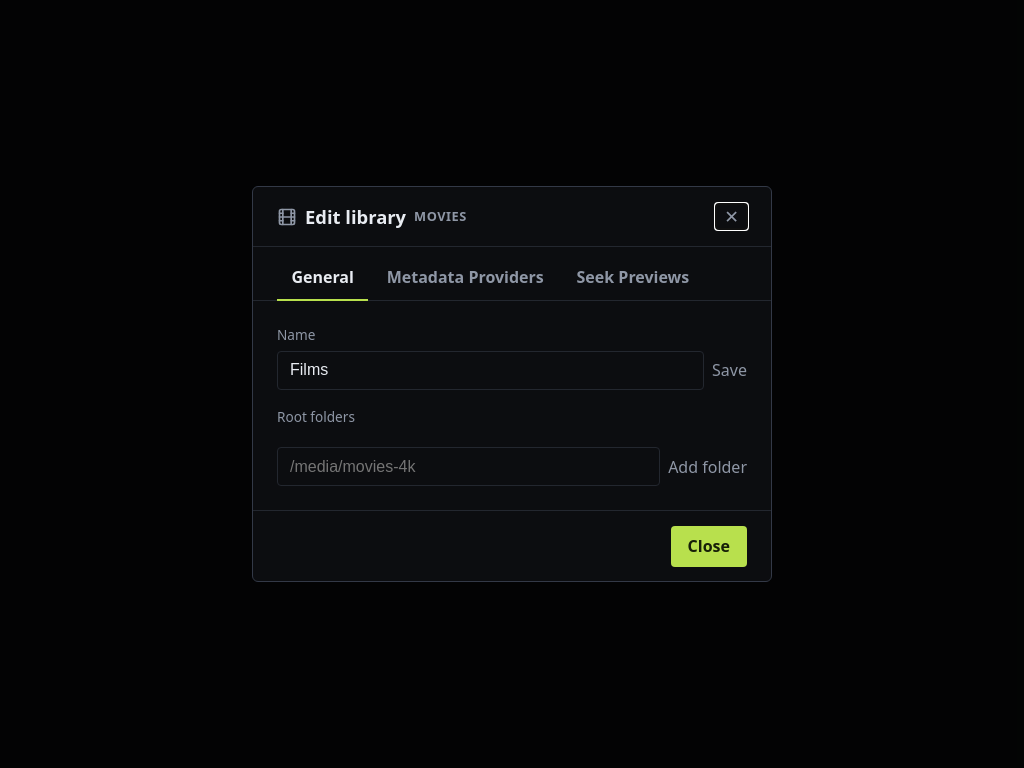
Test: EditLibraryDialog — seek previews tab › is lazy: the panel mounts only after the tab is clicked, labelled Enable Seek Previews
Click the tab with test id "edit-library-tab-seek-previews". click: (633, 278)
box: [562,256,704,301]
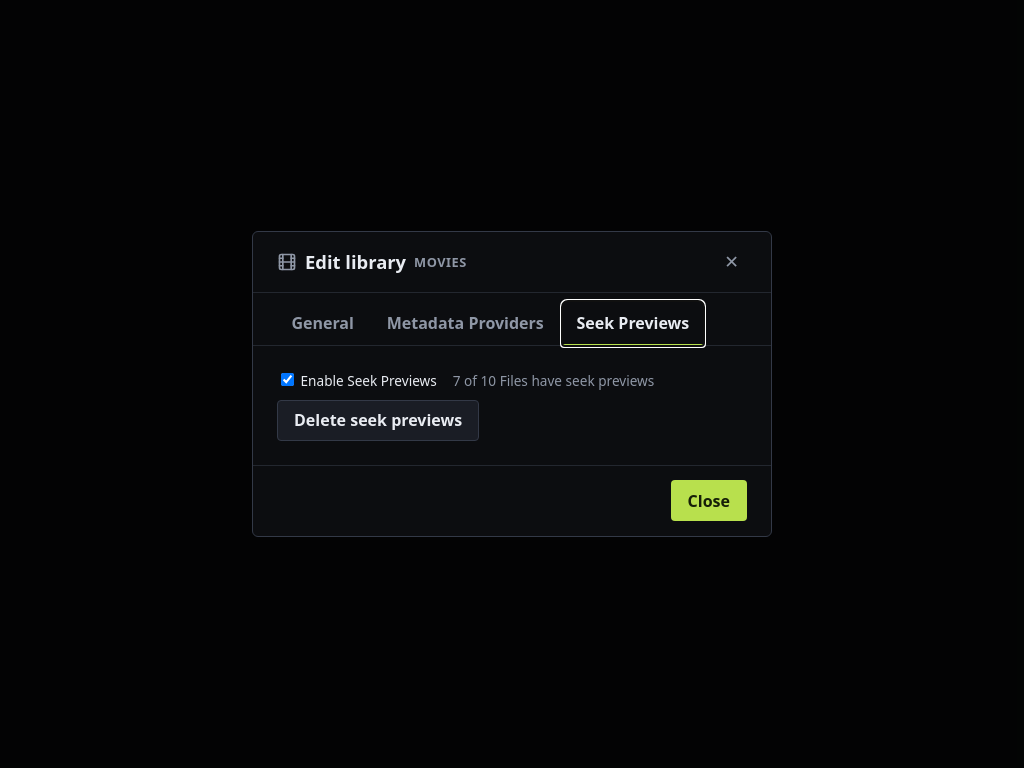
Now the element with test id "seek-previews" shows "Enable Seek Previews", box [300,371,437,390]
